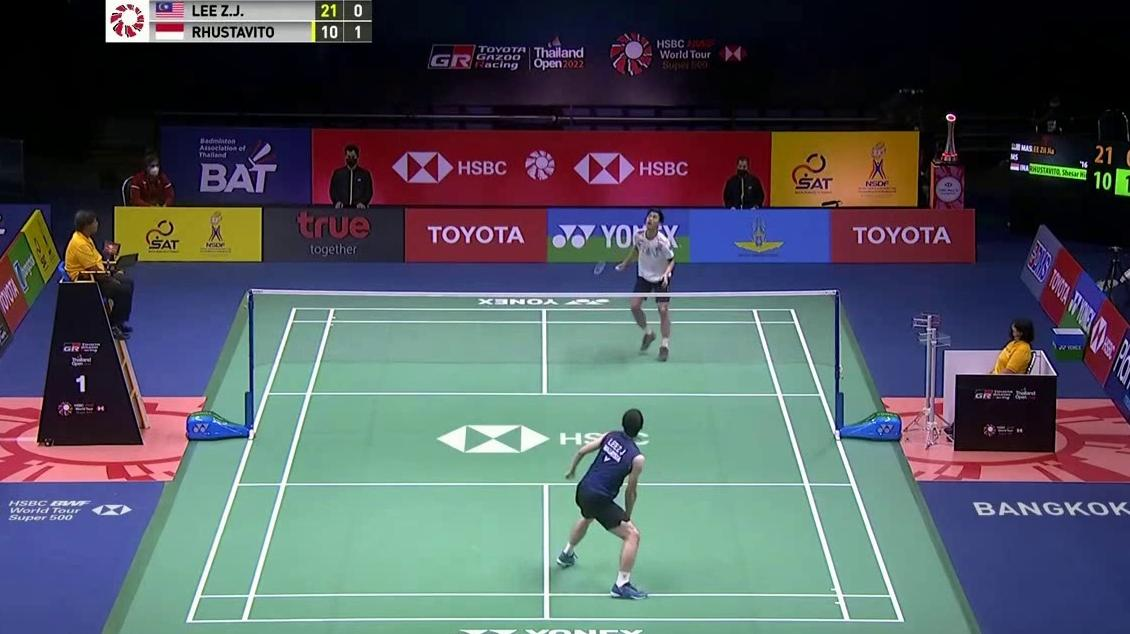racket: (593, 260, 624, 274)
